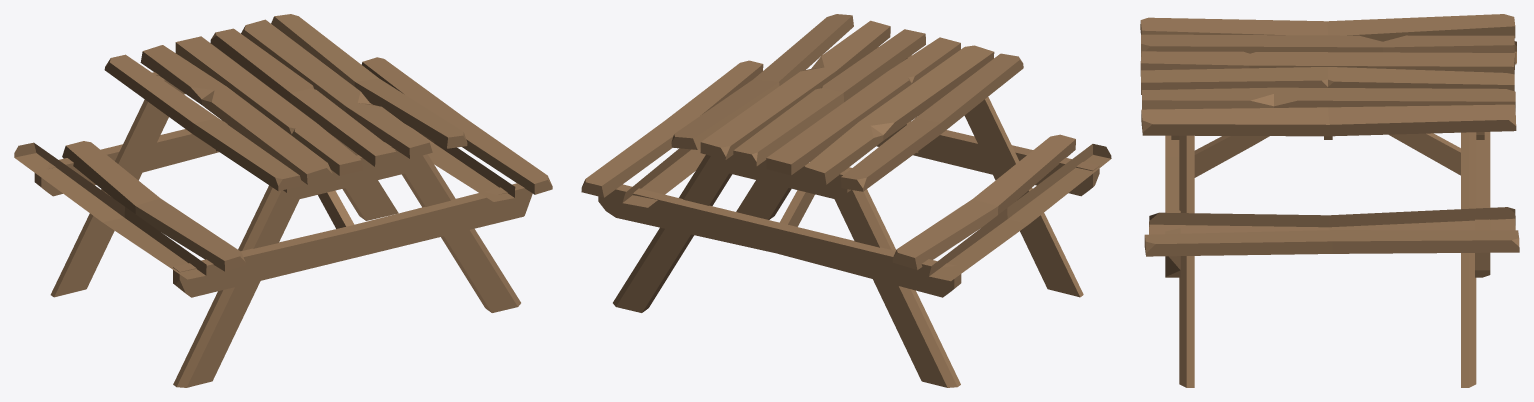
The model's file is Park Bench 2.glb.
The picture shows the model from 3 angles, left to right: view 1: azimuth 30°, elevation 25°; view 2: azimuth 150°, elevation 25°; view 3: azimuth 270°, elevation 25°; orthographic projection. The views are drawn at different scales.
Visible parts, largest first — view 1: Bench; view 2: Bench; view 3: Bench.
Part boxes in pixels (x1=…): Bench: x1=14, y1=14, x2=552, y2=387; Bench: x1=581, y1=14, x2=1111, y2=387; Bench: x1=1140, y1=14, x2=1519, y2=387.
Size of the model in its own units: 1.88 by 0.9882 by 1.48.
